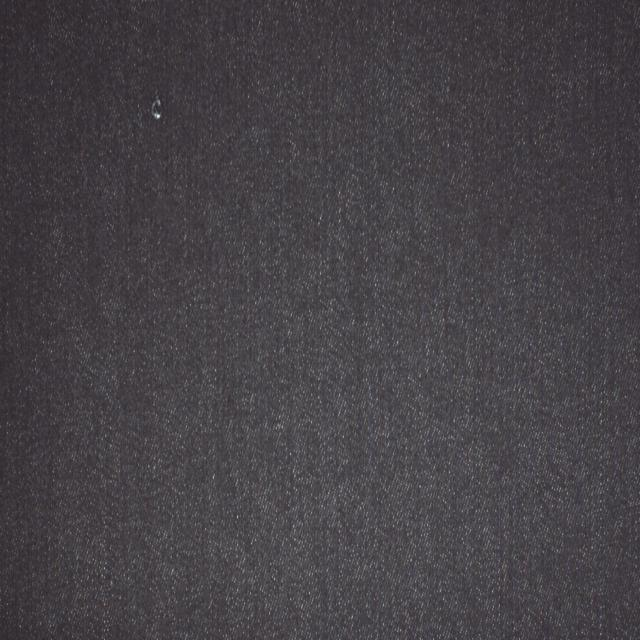Knot: (150, 95, 162, 119)
